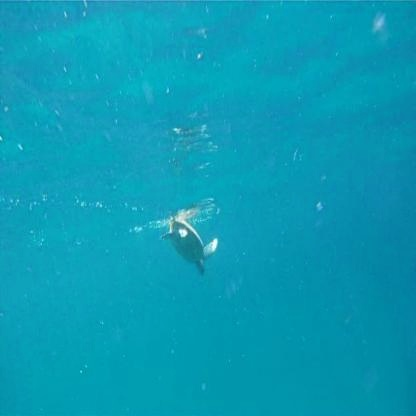misc: (157, 195, 228, 286)
